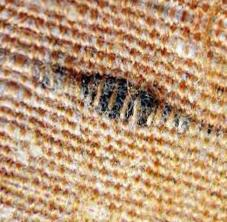slub: (65, 68, 189, 130)
